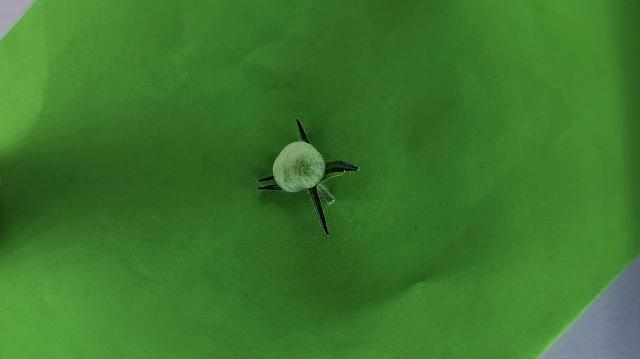Fruit Maturation: (272, 141, 327, 193)
